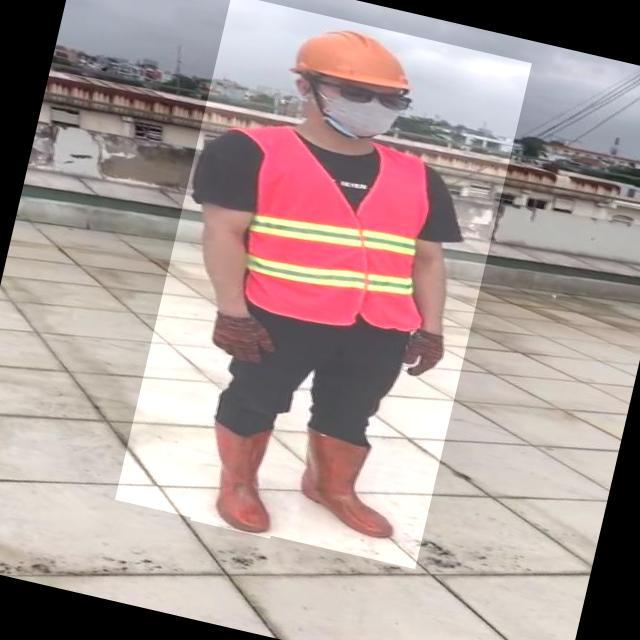Gloves: (204, 306, 278, 365), (400, 329, 450, 386)
Helmet: (282, 15, 423, 101)
Human: (114, 0, 531, 568)
Safety Boot: (286, 425, 415, 543), (190, 422, 293, 539)
Safety Vest: (228, 118, 454, 345)
